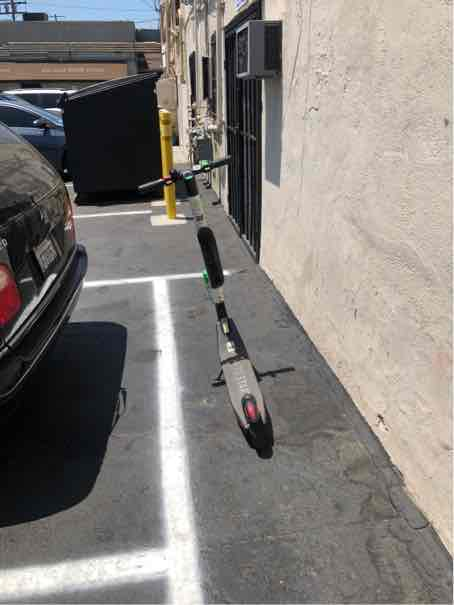scooter: (137, 146, 285, 463)
